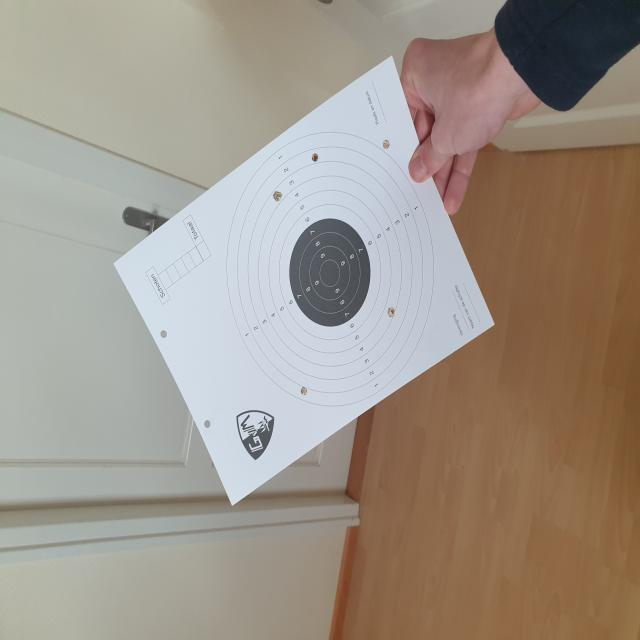0: (382, 139, 390, 149)
2: (300, 385, 308, 396), (312, 153, 318, 162)
3: (273, 190, 282, 202)
4: (387, 307, 395, 318)
Target: (225, 131, 435, 406)
black_contour: (290, 218, 370, 327)
